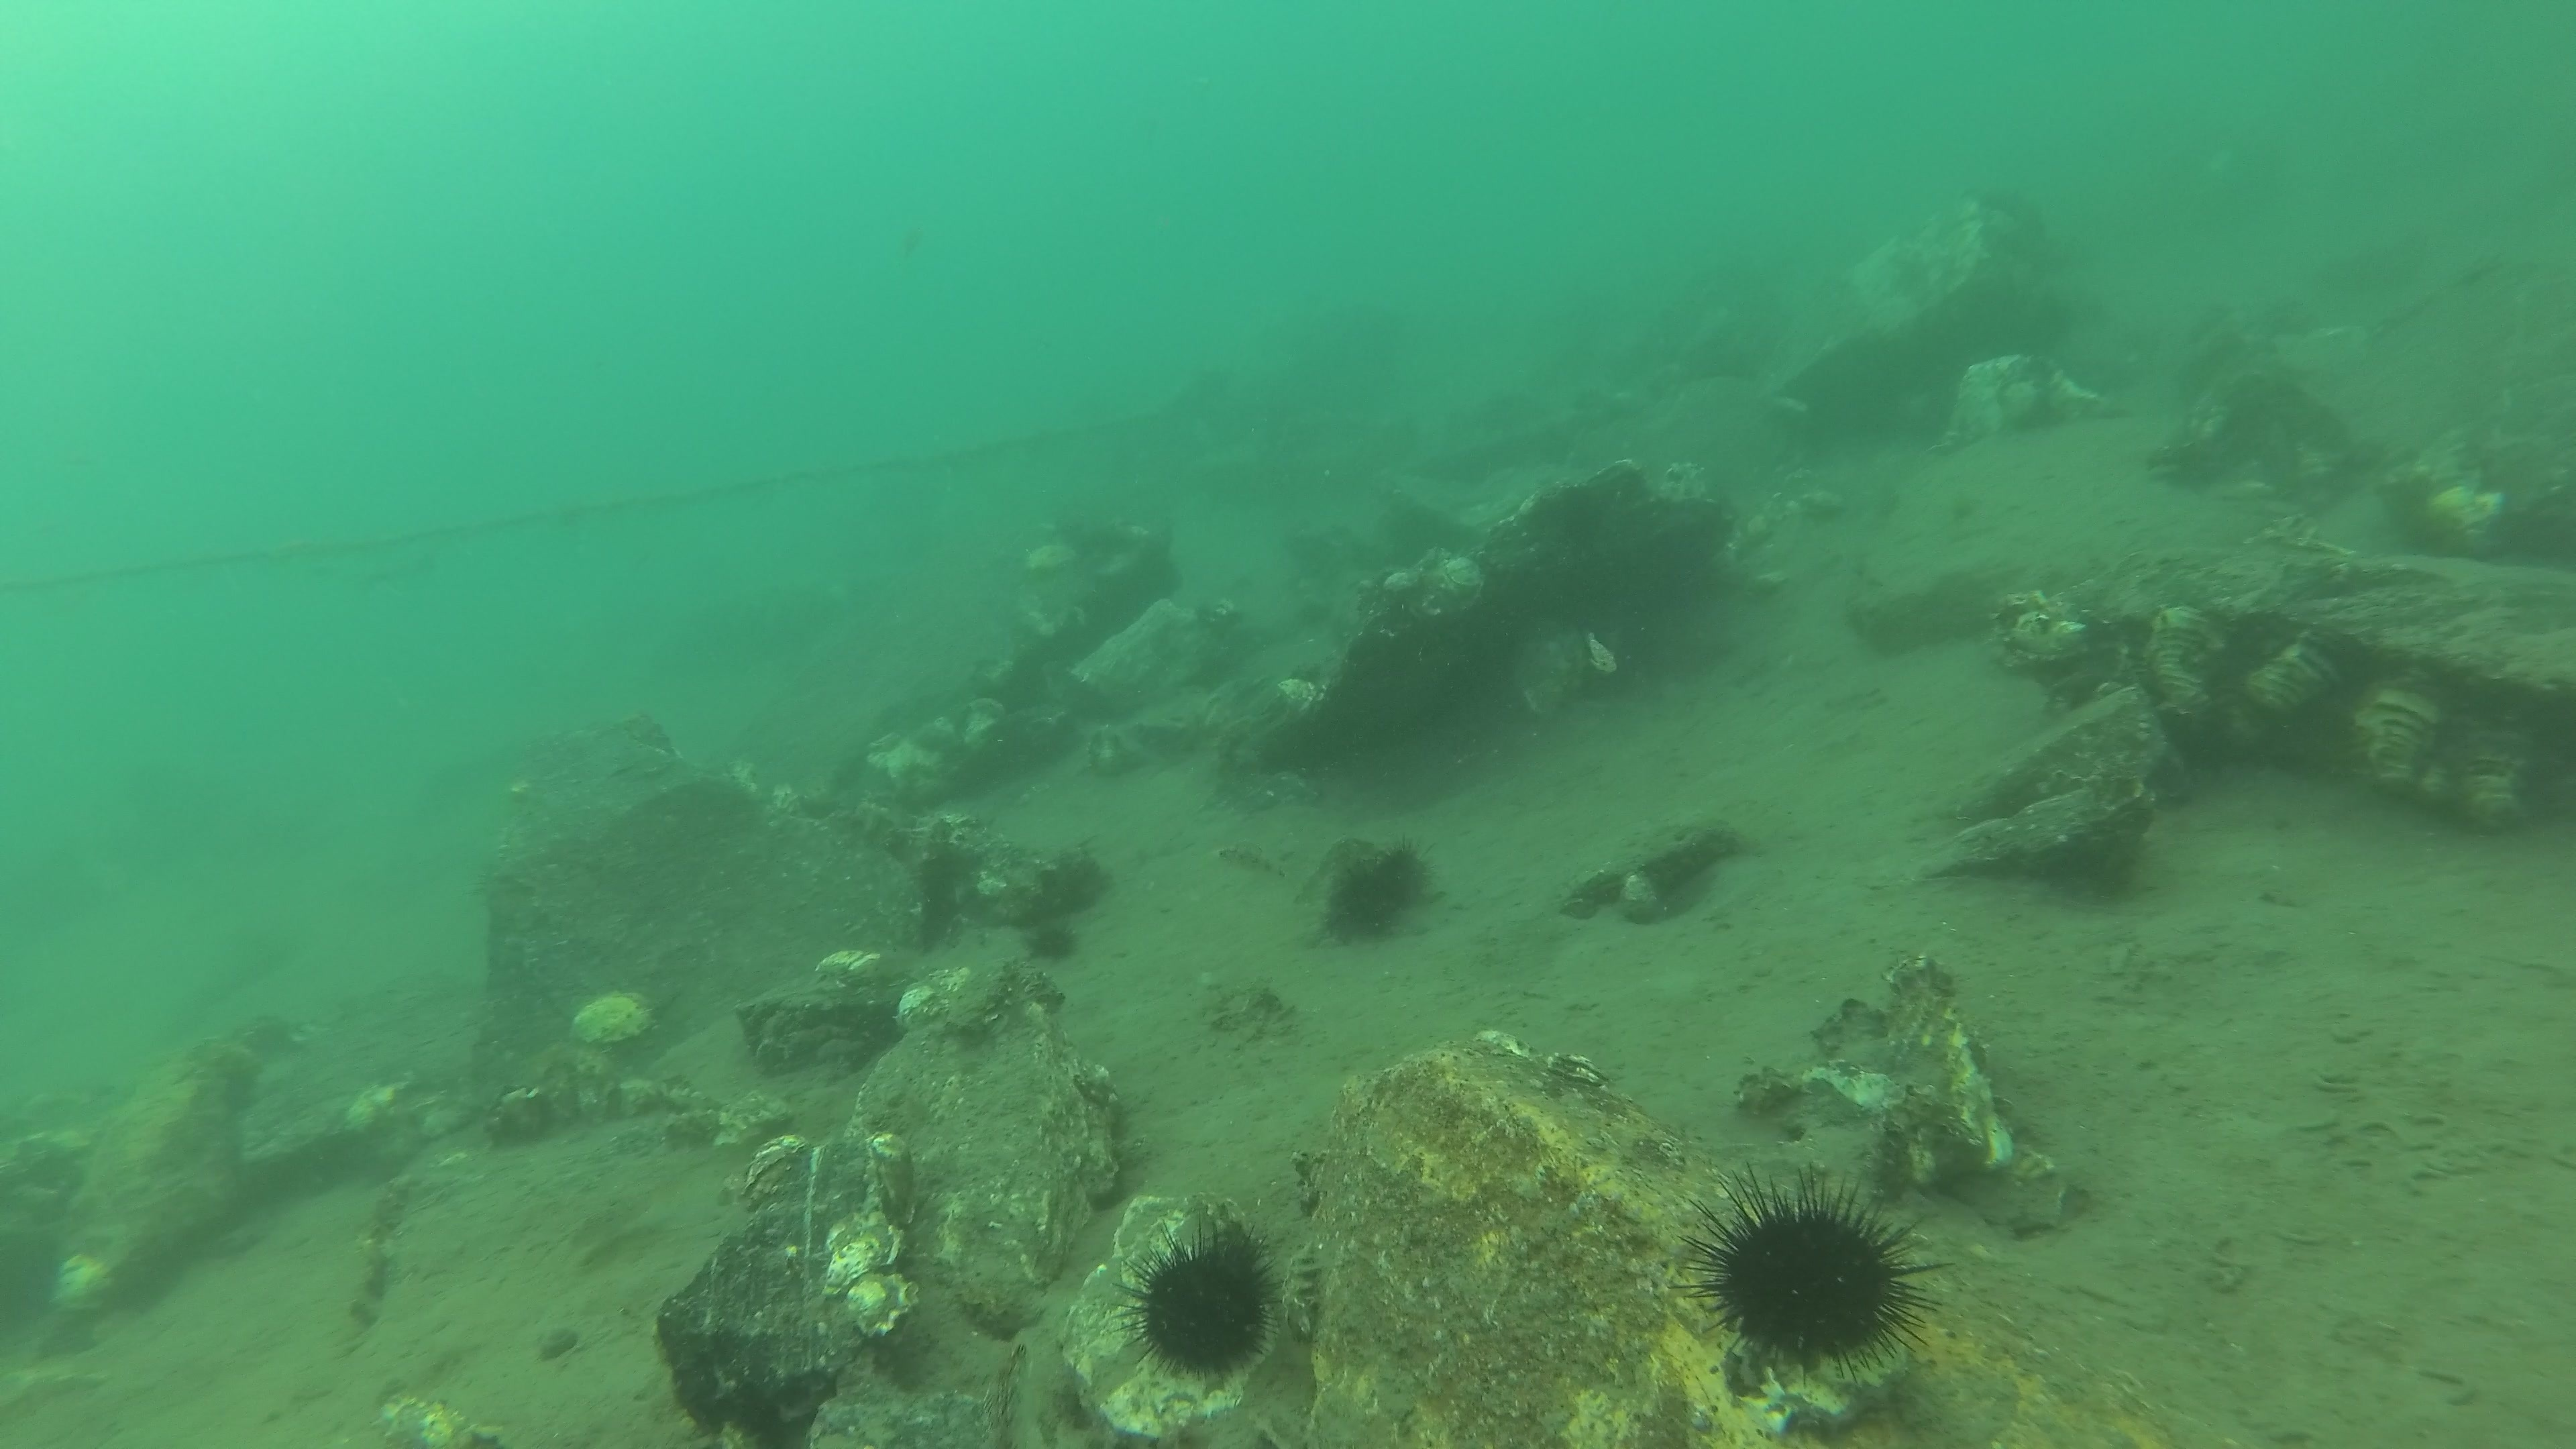echinus: (1665, 1157, 1959, 1392), (1108, 1207, 1288, 1387), (1334, 855, 1398, 939), (1376, 830, 1440, 909), (1562, 487, 1605, 543), (1026, 924, 1077, 962)
